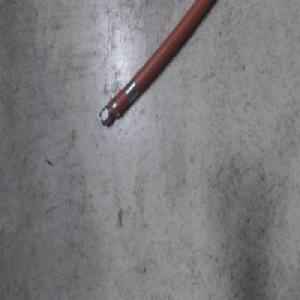Hose: (97, 0, 217, 128)
